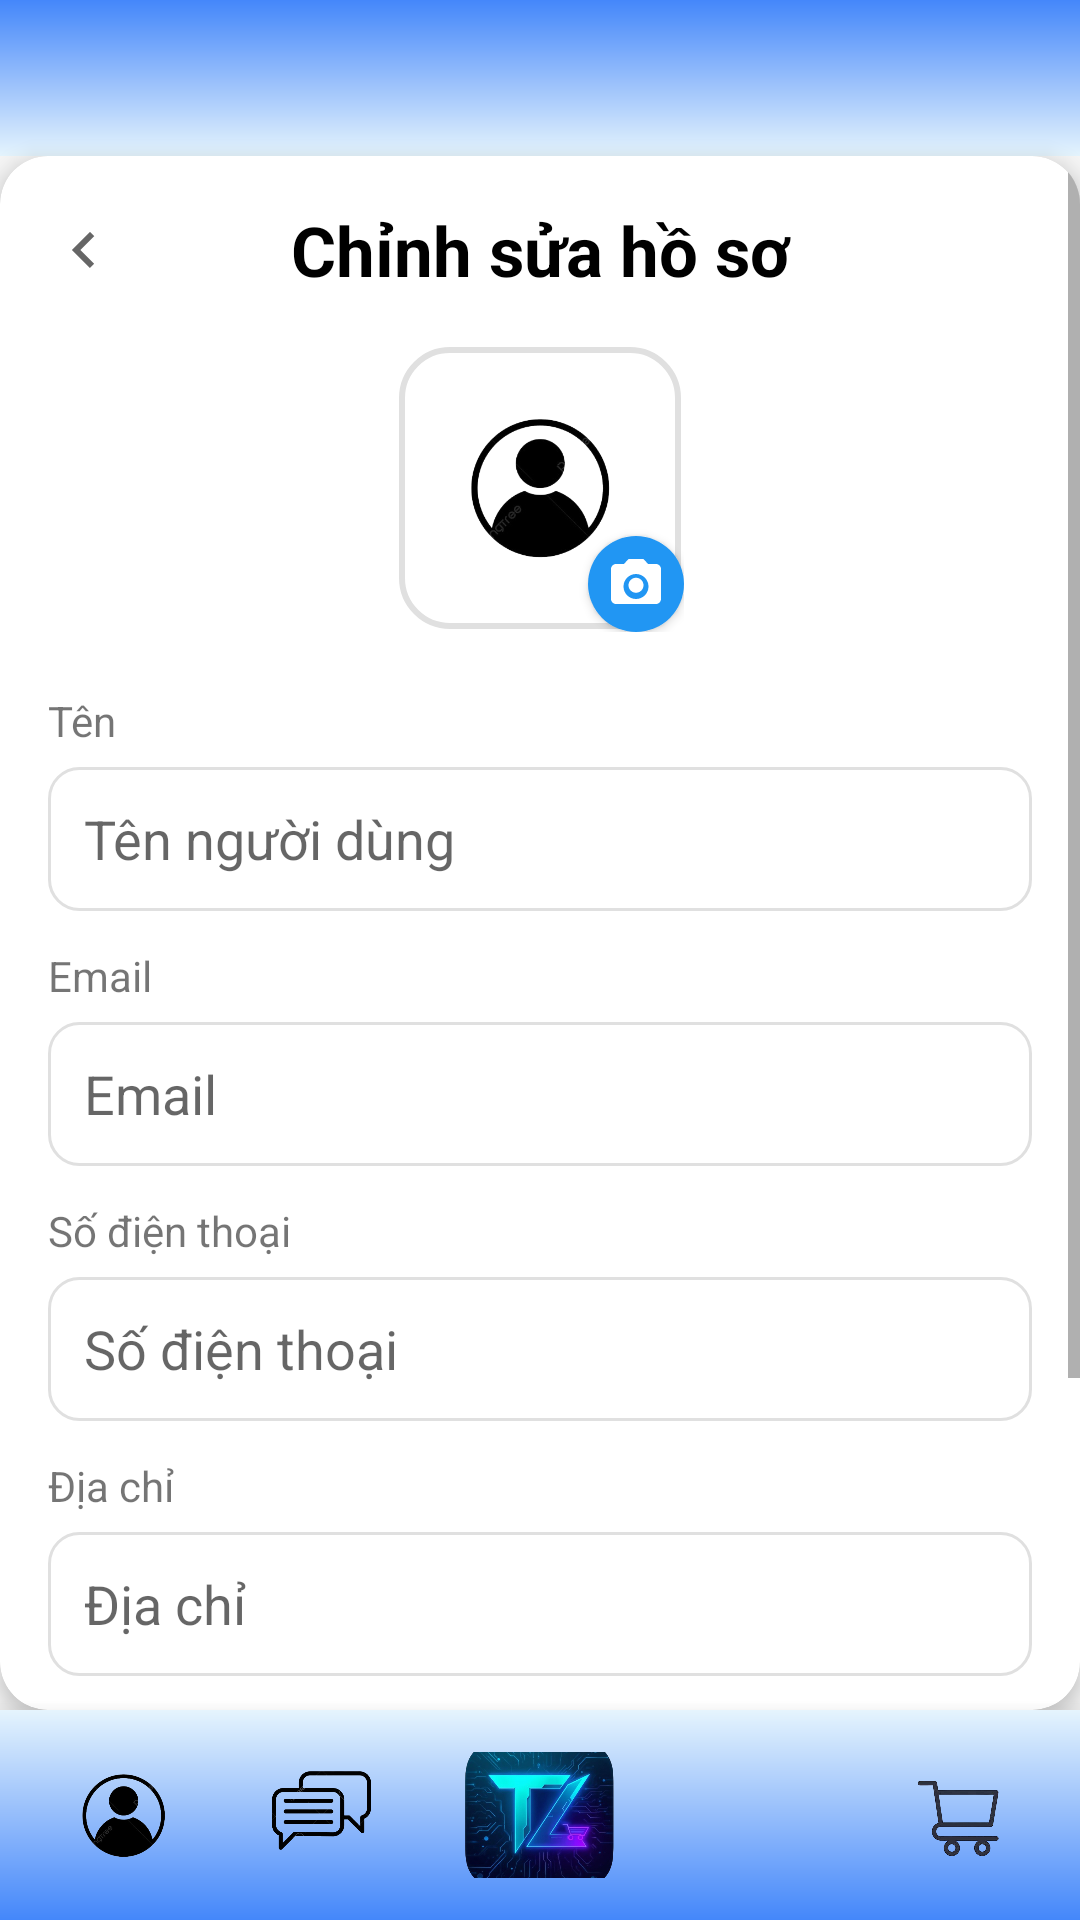

Icon click points for this 1080 × 1920 phone screenshot, format point (x, y):
cart: point (956, 1815)
chat: point (321, 1815)
